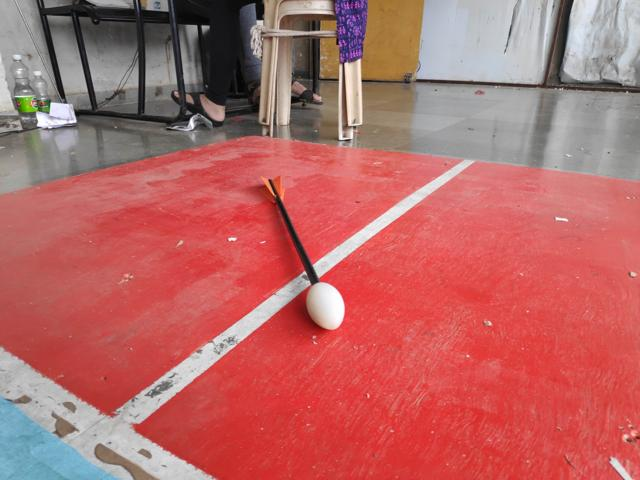Head: (303, 278, 349, 332)
Tail: (259, 171, 288, 204)
